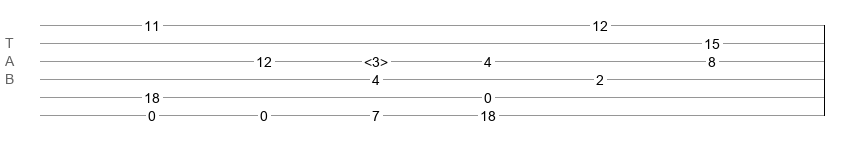0: (148, 108, 156, 118), (260, 108, 268, 118), (484, 90, 492, 100)
11: (144, 18, 160, 28)
12: (256, 54, 272, 64), (592, 18, 608, 28)
15: (704, 36, 720, 46)
18: (144, 90, 160, 100), (480, 108, 496, 118)
2: (596, 72, 604, 82)
4: (372, 72, 380, 82), (484, 54, 492, 64)
7: (372, 108, 380, 118)
8: (708, 54, 716, 64)
harmonic: (364, 54, 388, 64)
